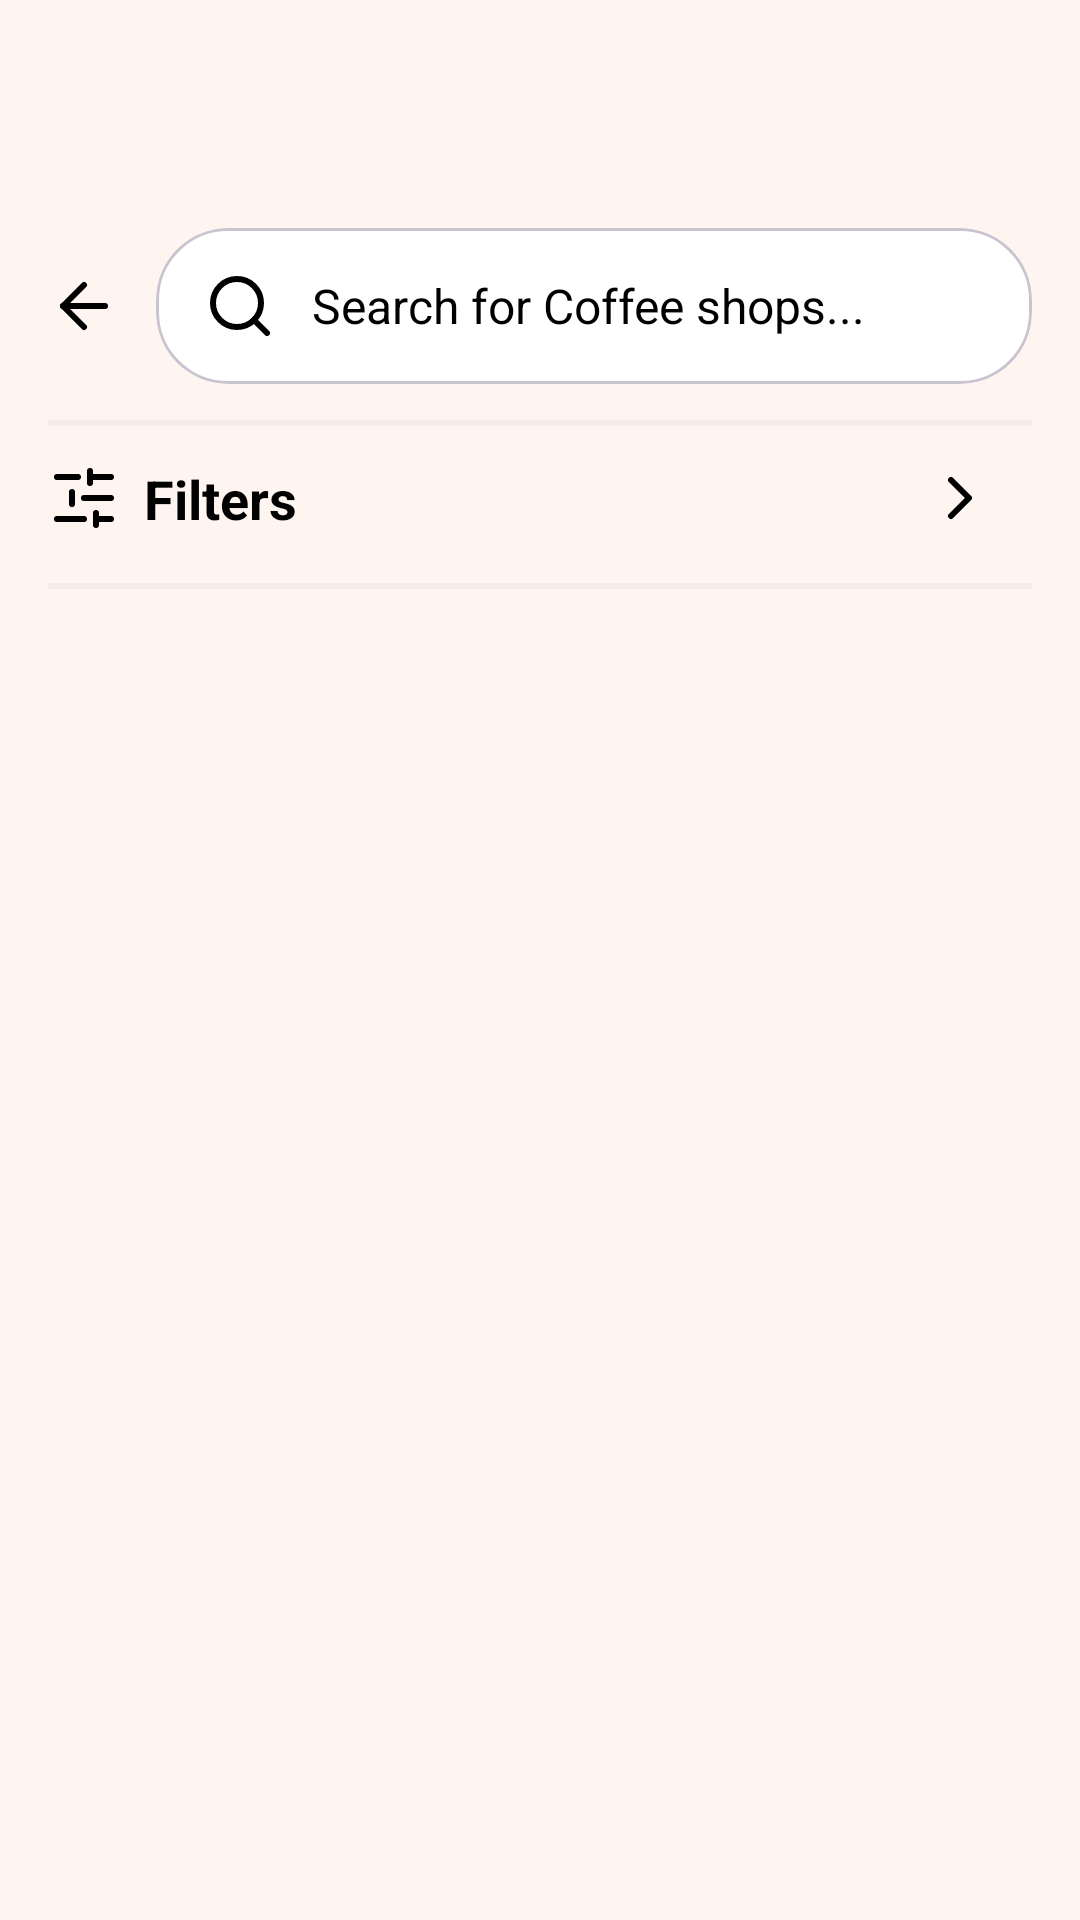

Icons on this 1080px×1920px Android screen, each with its box as (x1, y1, x2, y2):
Back: (60, 282, 108, 330)
ctc arrow drop foward: (948, 477, 972, 519)
ctc filter: (54, 468, 114, 528)
ctc search: (210, 276, 270, 336)
